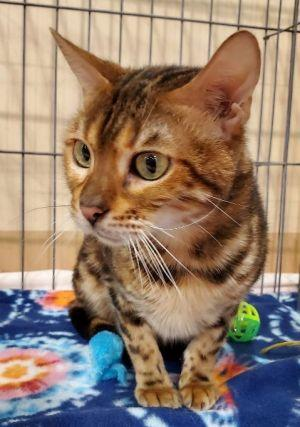bengal: (38, 13, 264, 271)
